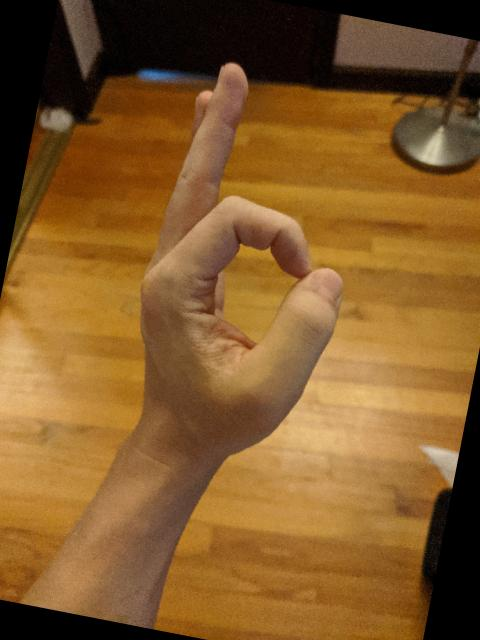F: (103, 49, 386, 477)
